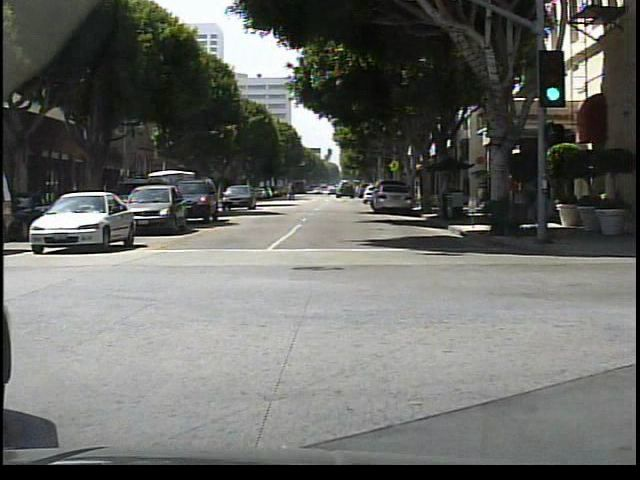person: (536, 162, 554, 238), (439, 172, 455, 219), (506, 169, 520, 221), (287, 184, 296, 201)
